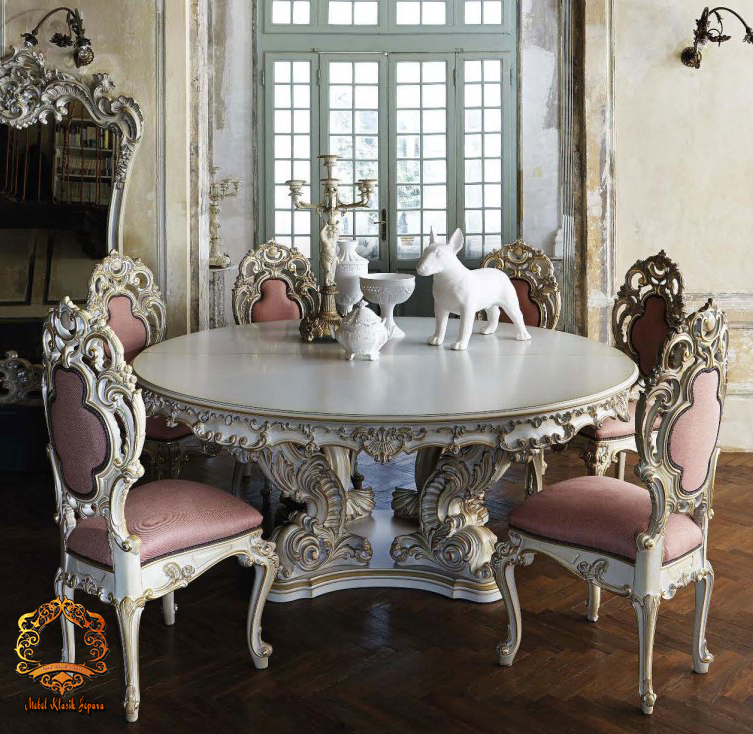Carving Chair: (29, 311, 306, 698), (519, 311, 753, 689)
Carving Table: (127, 305, 637, 637)
